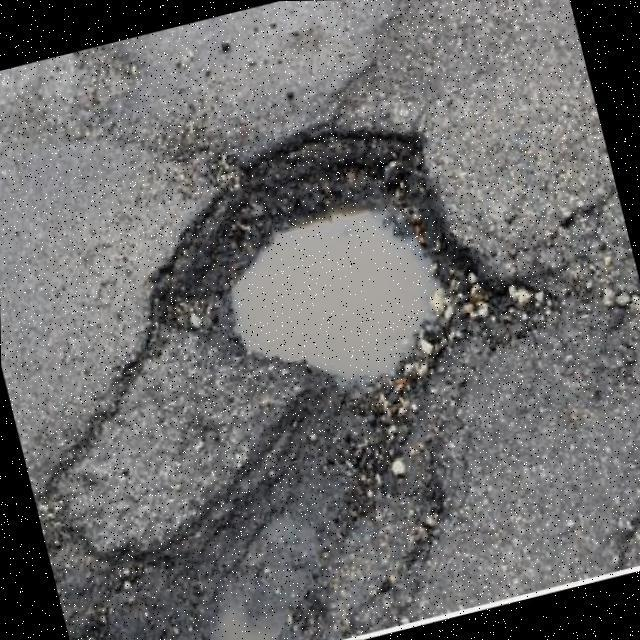Pothole: (50, 126, 541, 640)
